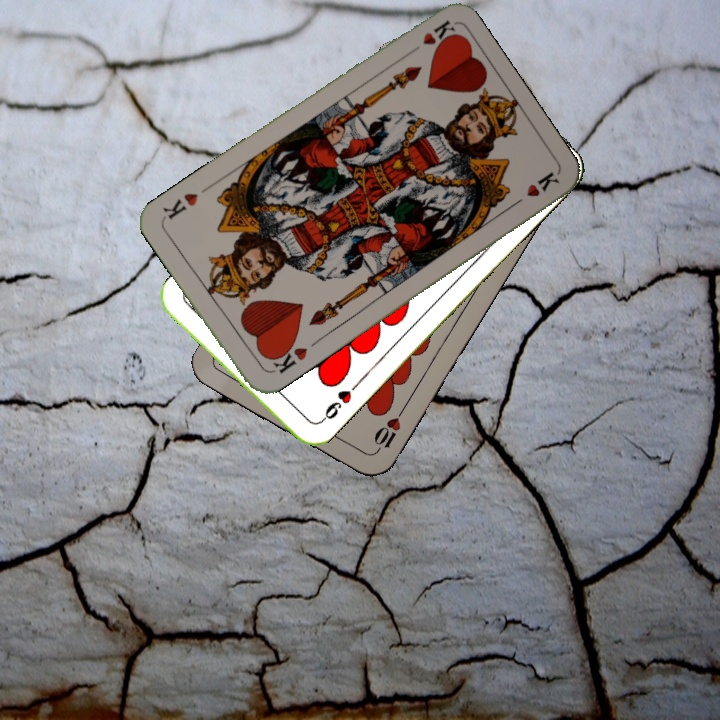H10: (368, 405, 407, 458)
H9: (316, 386, 354, 426)
HK: (402, 16, 457, 59), (265, 337, 310, 376)
